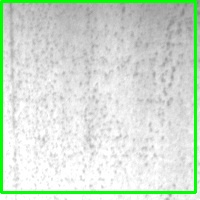pitted_surface: (1, 1, 195, 192)
